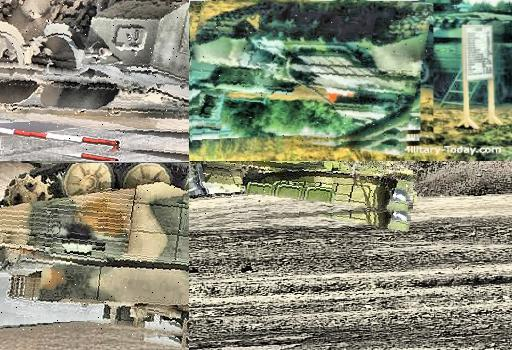tanks: (194, 4, 433, 144), (1, 164, 190, 337), (1, 1, 190, 145), (314, 1, 512, 103), (190, 162, 413, 216)
